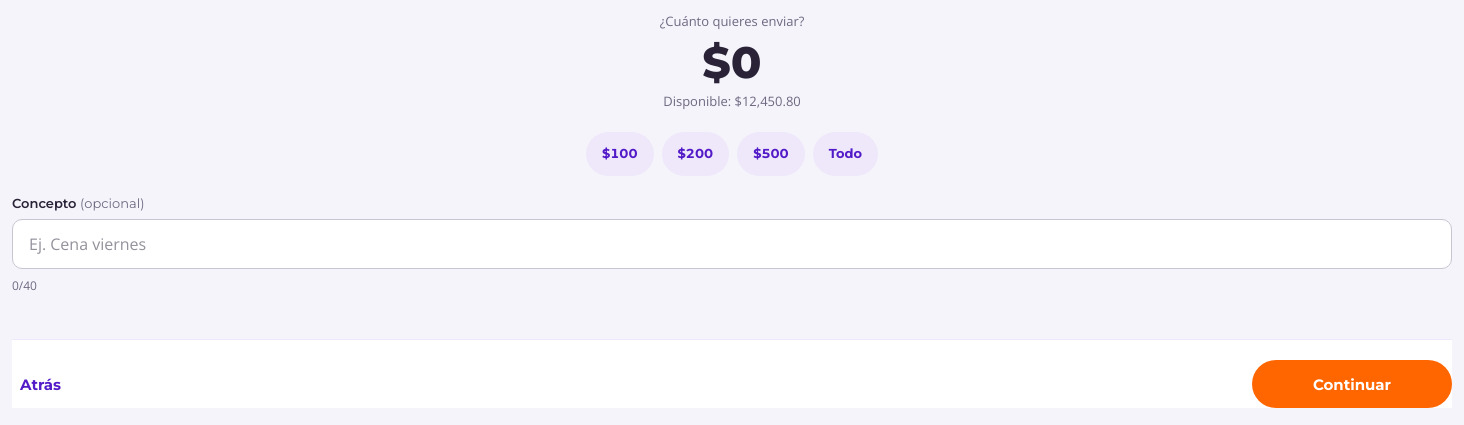
Test: AmountStep › ignores letters and a third decimal
The width and height of the screenshot is (1464, 425).
Type "35a0.505" into the field labelled "¿Cuánto quieres enviar?". click: (746, 62)
box: x1=731 y1=36 x2=762 y2=88
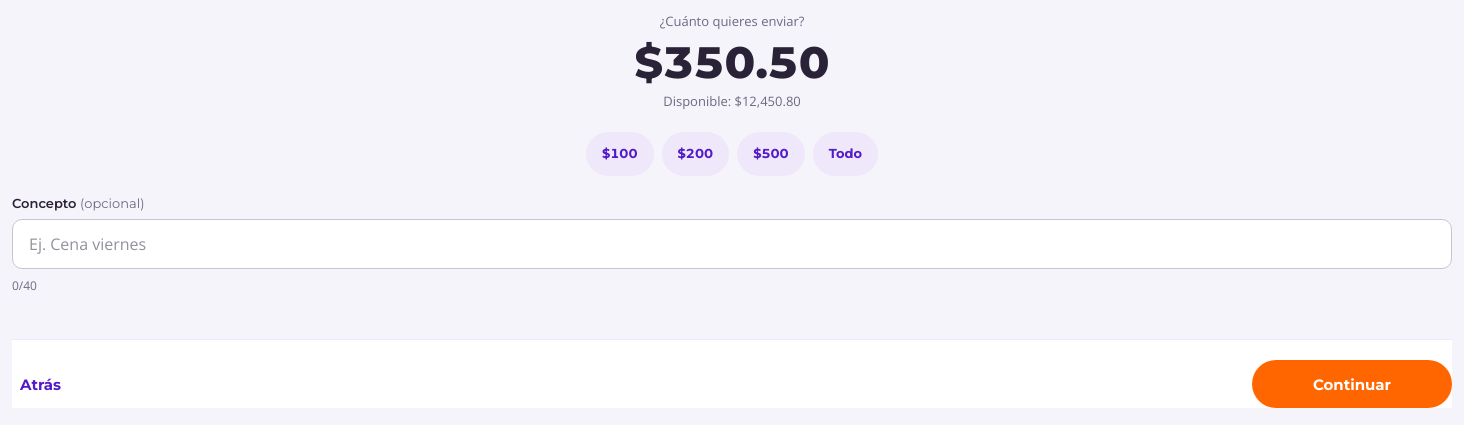
Expected: the field labelled "¿Cuánto quieres enviar?" holds "350.50", x1=663 y1=36 x2=830 y2=88
